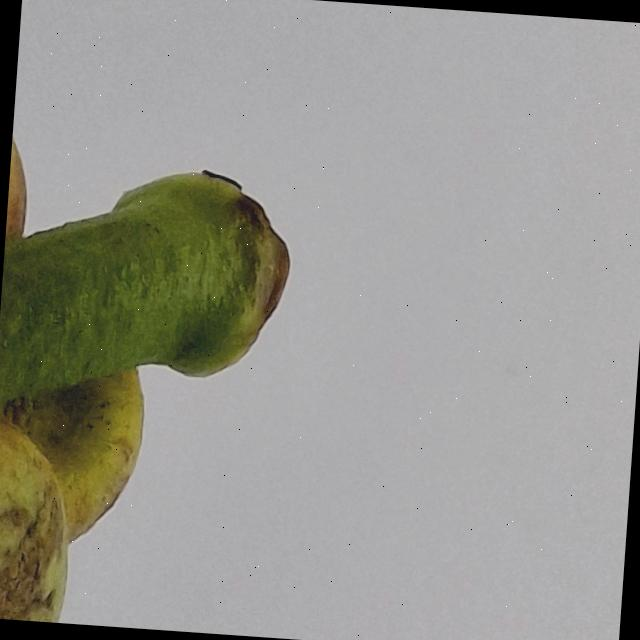mangosteen: (0, 0, 337, 638)
